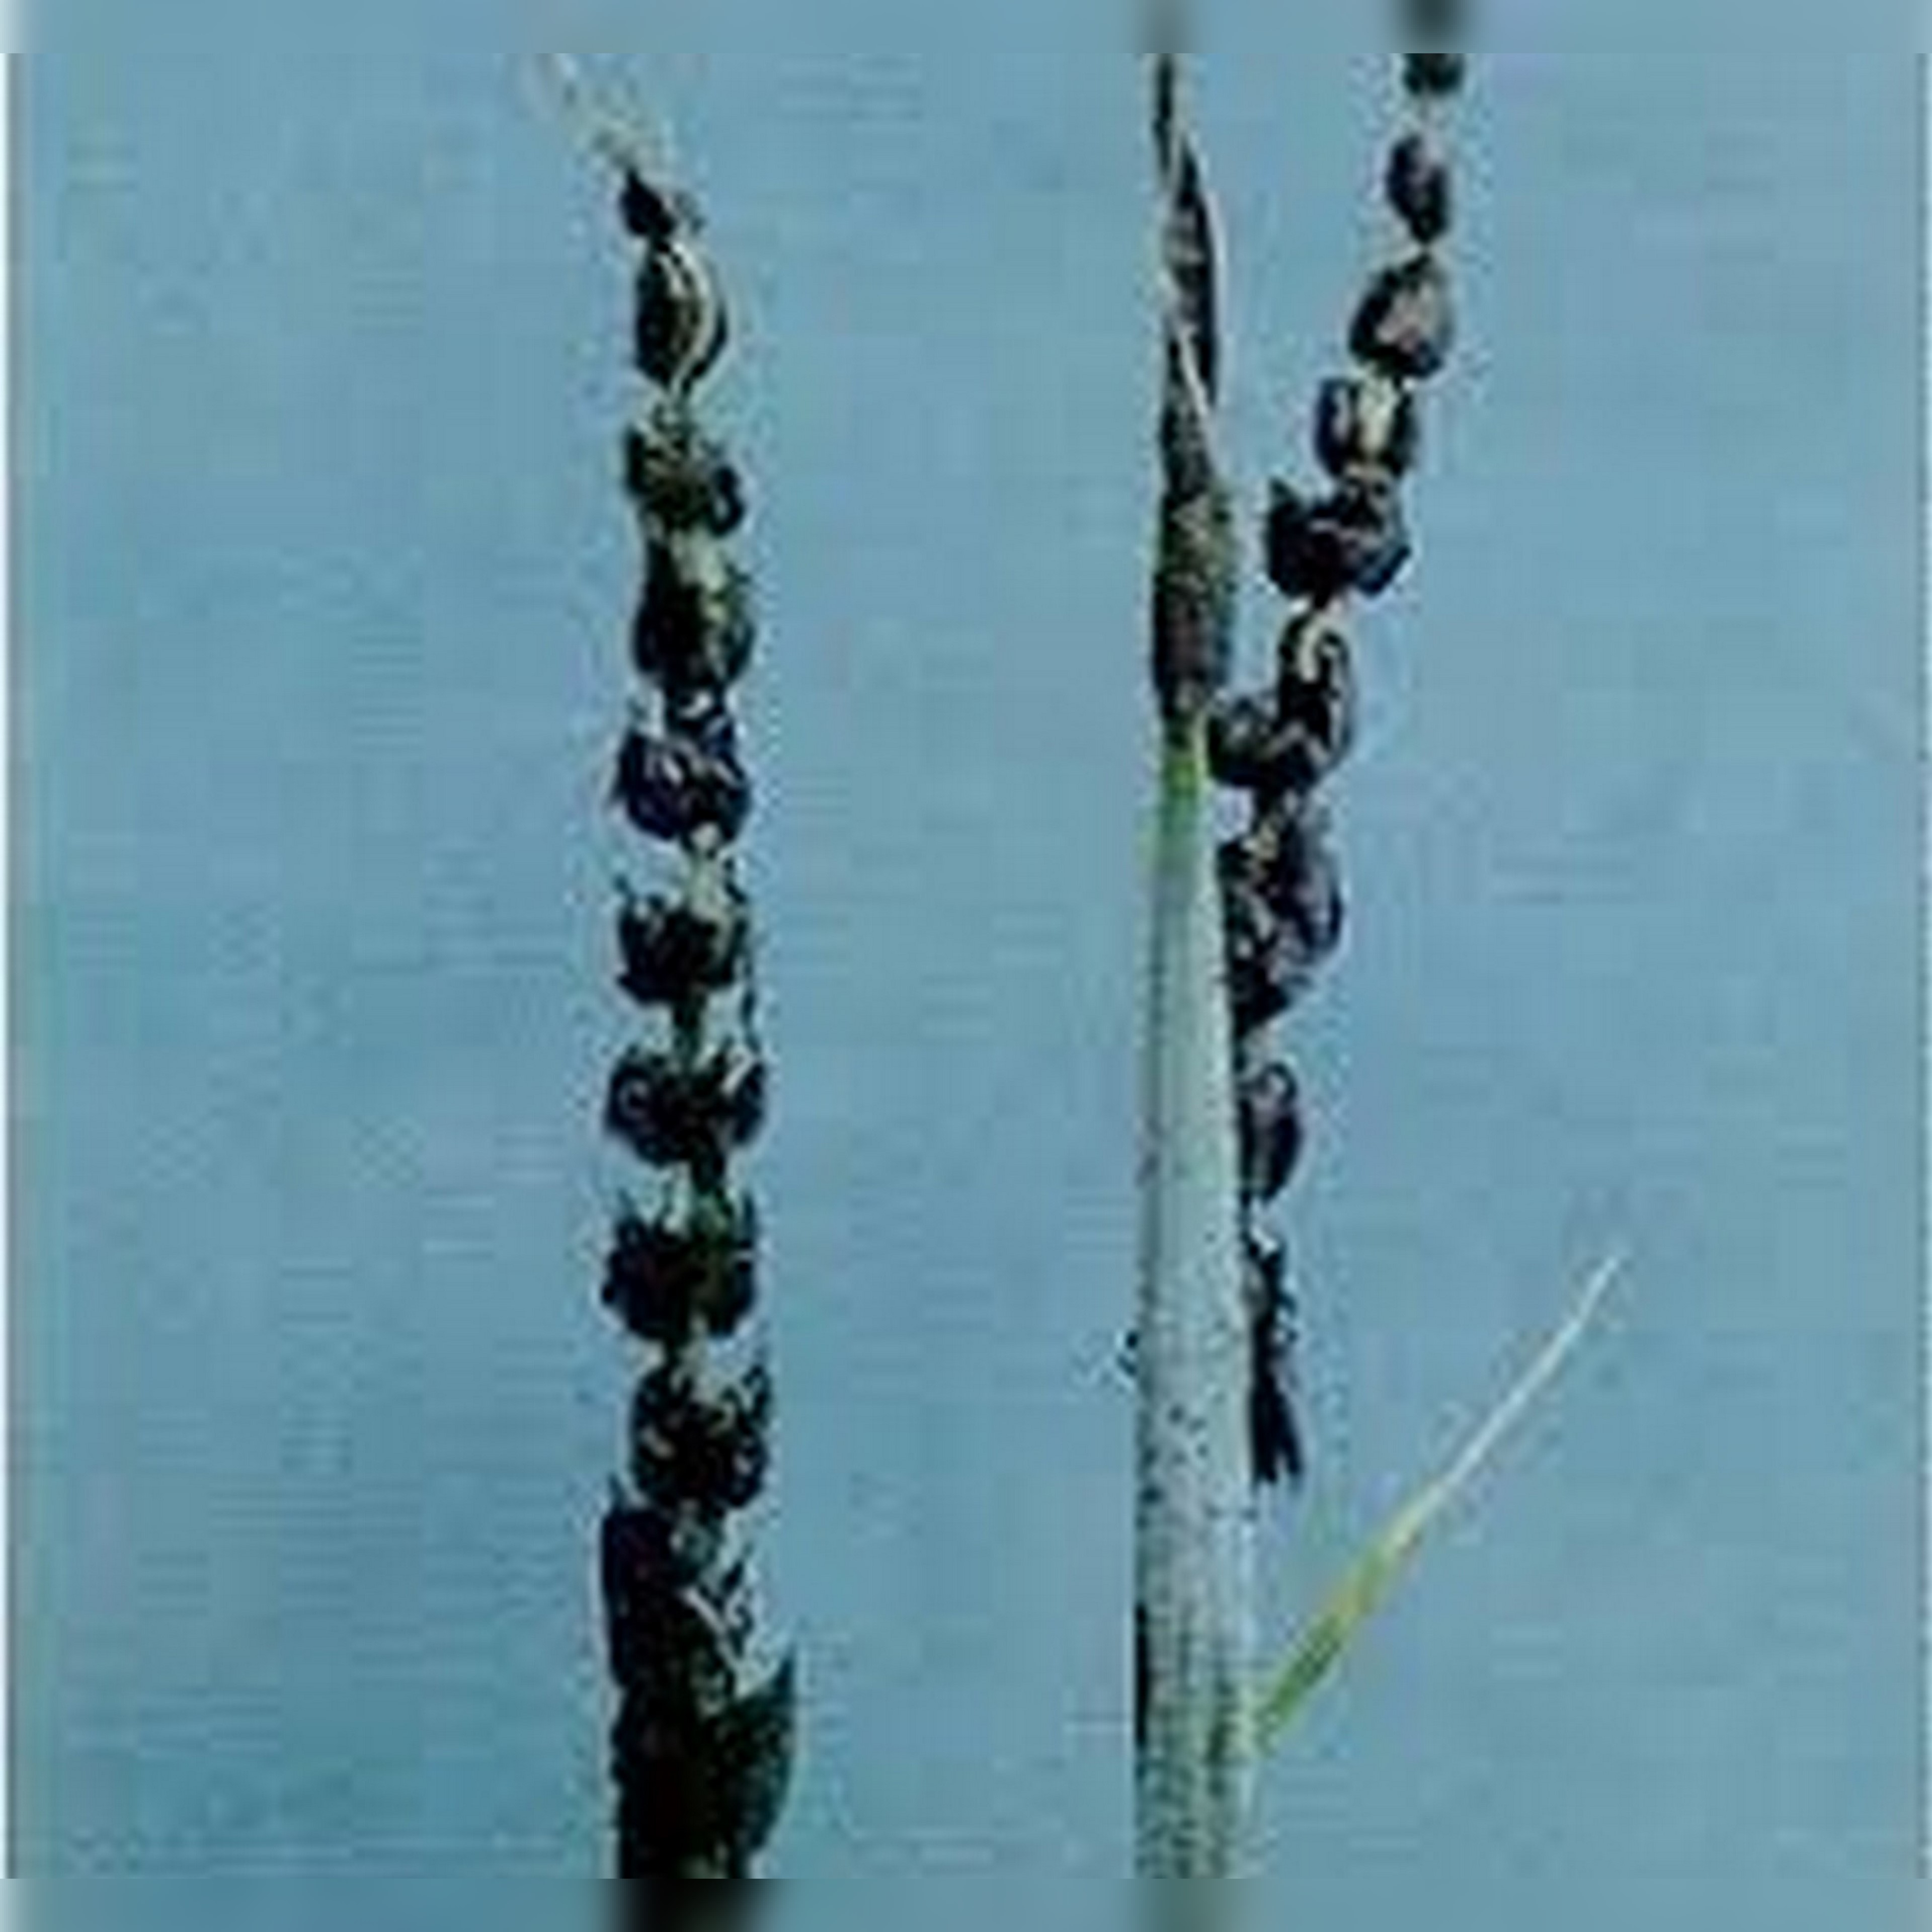Wheat Loose Smut: (527, 173, 876, 1858)
